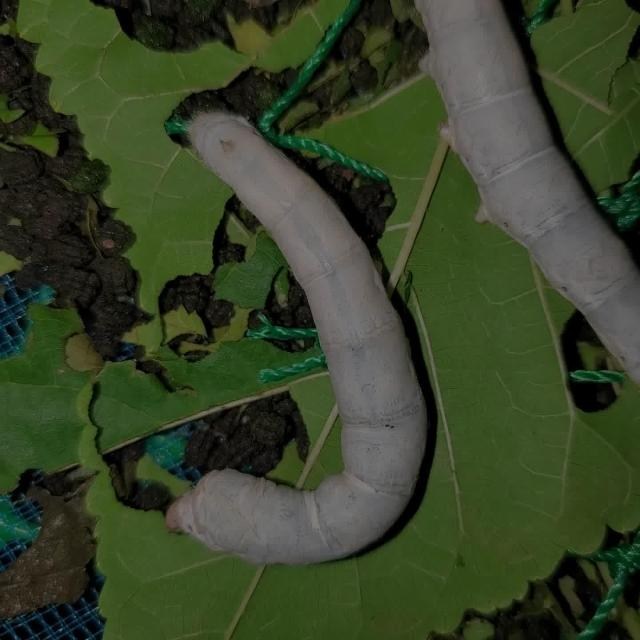Healthy: (161, 105, 437, 574)
